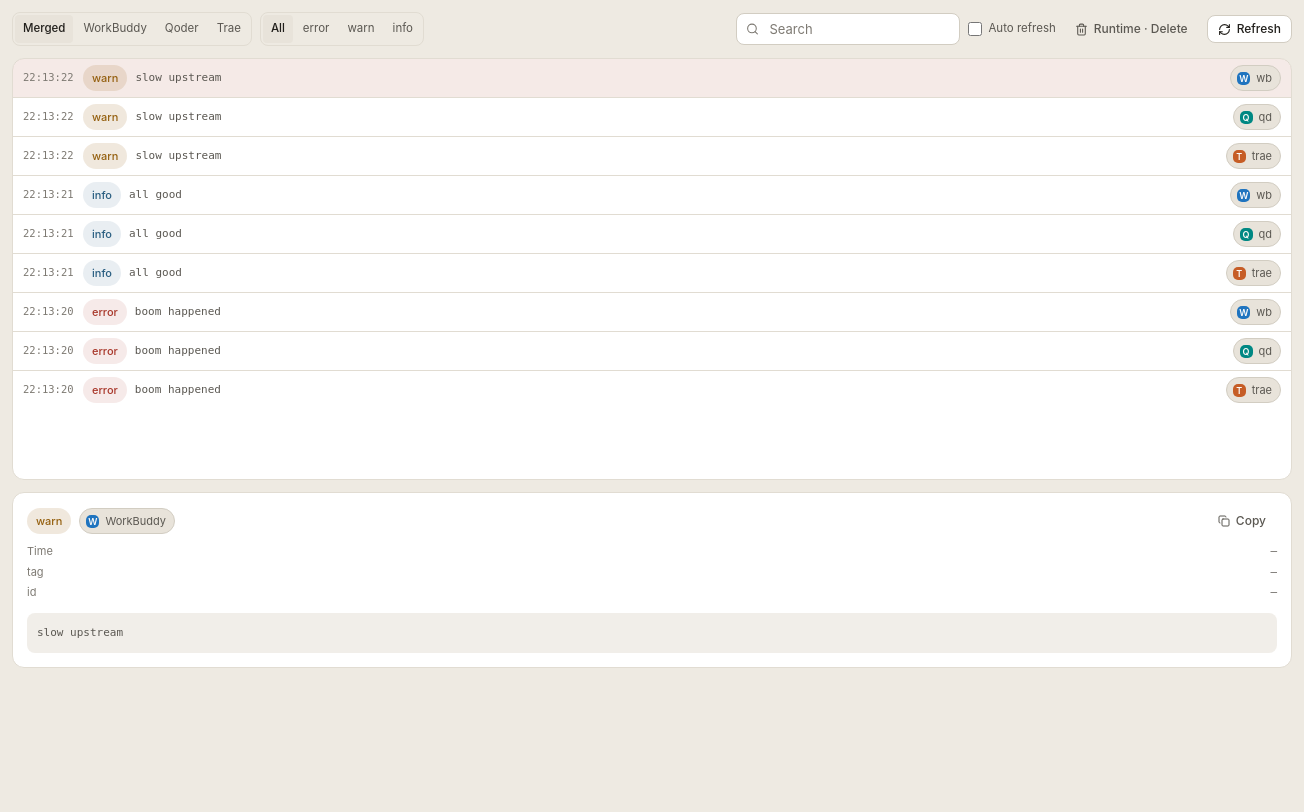
Scenario: LogsView › 搜索过滤生效
expect the text "all good" is shown 3 times: met, box left=129, top=188, right=182, bottom=201; left=129, top=227, right=182, bottom=240; left=129, top=266, right=182, bottom=279
Type "slow" into the field at (848, 29), box left=736, top=13, right=960, bottom=45
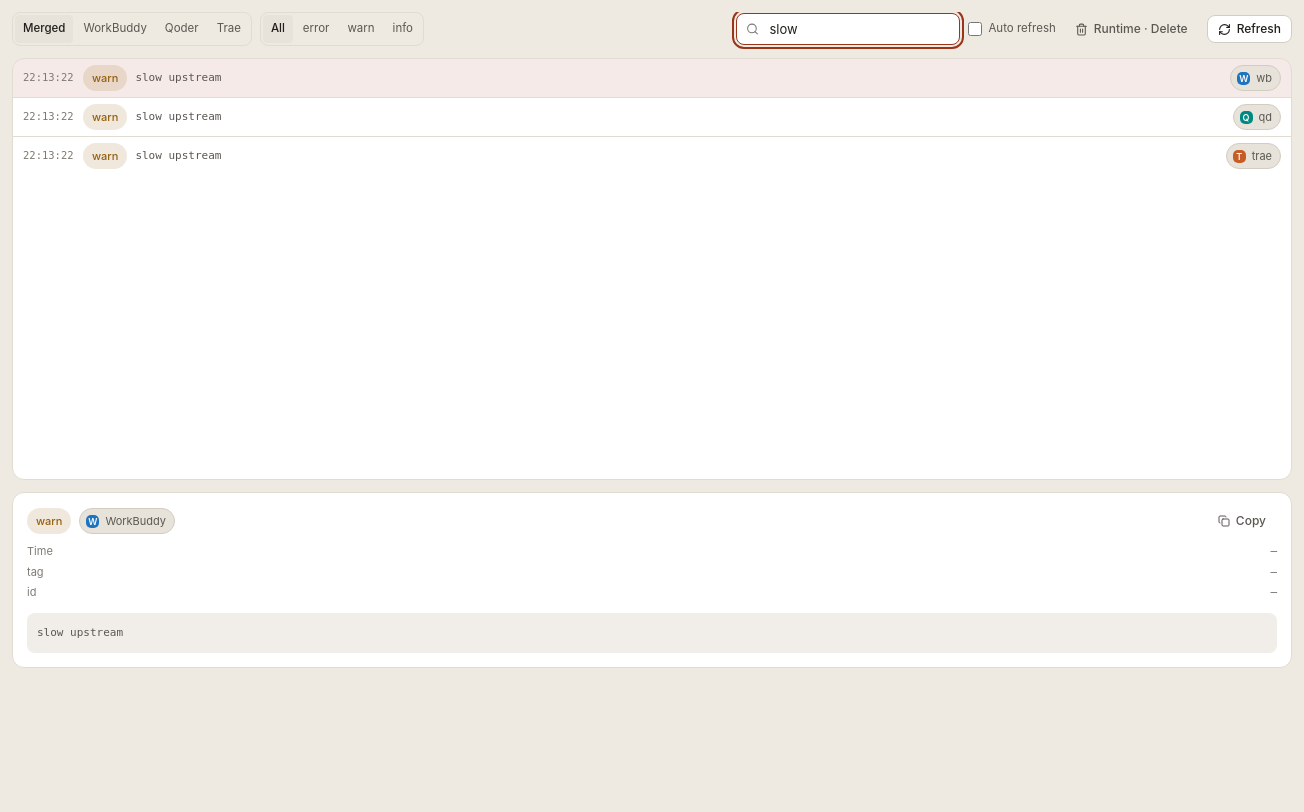
expect no buttons "all good" are shown: met
